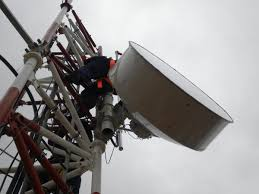ba: (95, 28, 238, 158)
